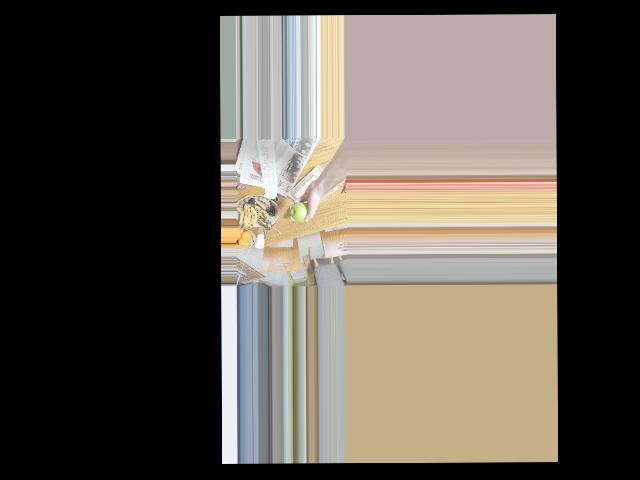apple: (290, 199, 313, 224)
